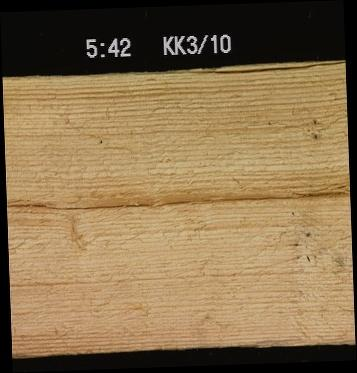small_knot: (67, 216, 88, 250)
split: (156, 191, 350, 202), (6, 199, 153, 210)
